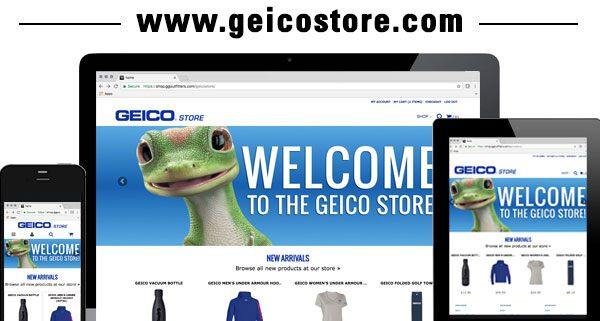Geico: (114, 105, 175, 123), (451, 163, 497, 177), (17, 220, 64, 232)
